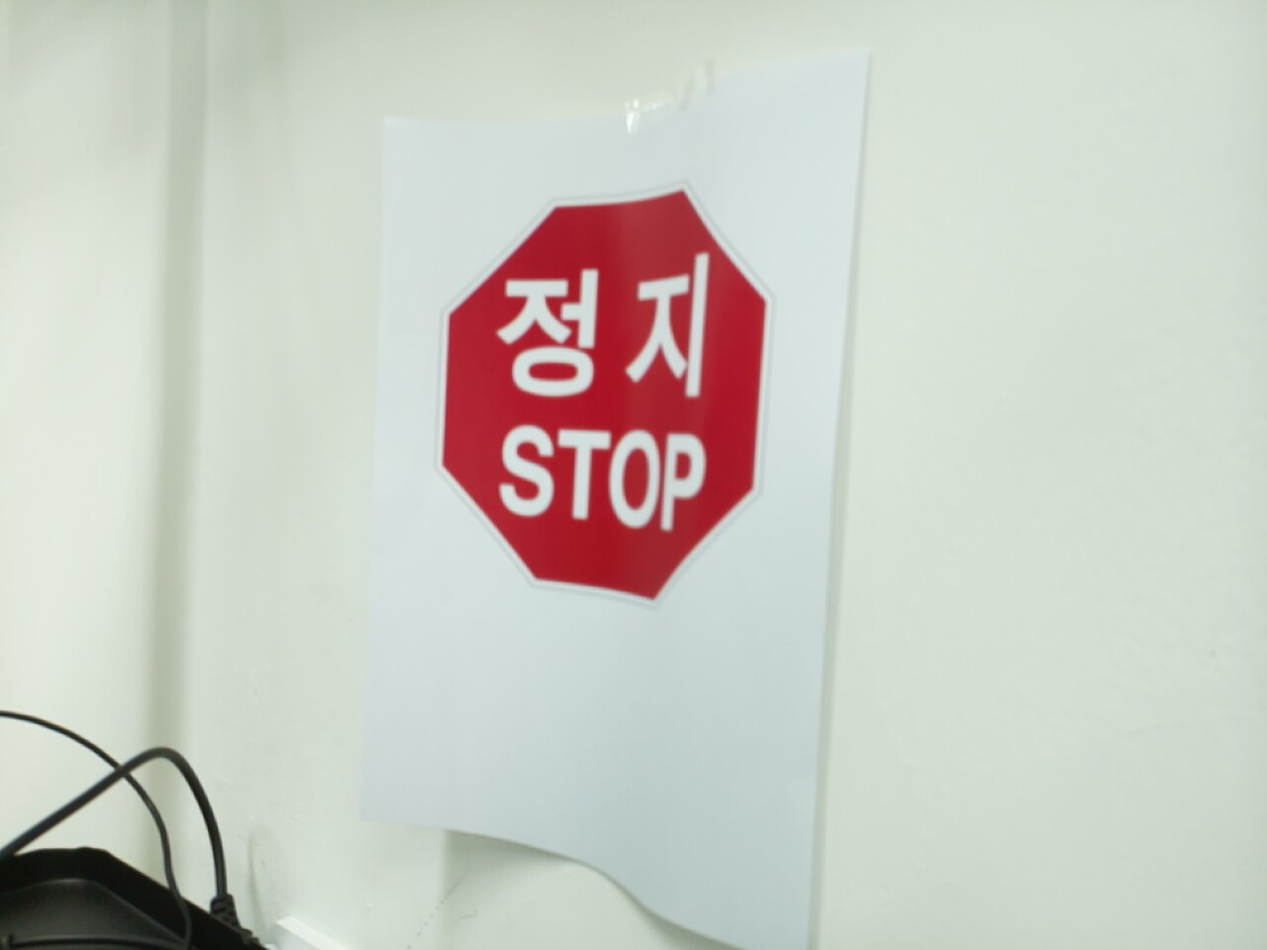stop: (433, 179, 776, 612)
